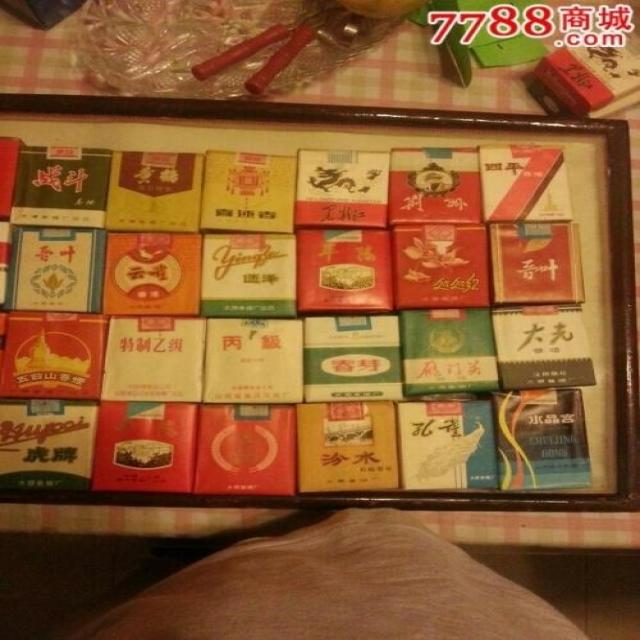box: (492, 387, 591, 490), (92, 400, 200, 492), (296, 401, 401, 494), (1, 310, 110, 399), (0, 397, 99, 492), (195, 403, 297, 495), (397, 399, 498, 491), (100, 315, 205, 402), (303, 313, 403, 403), (492, 305, 596, 391), (4, 227, 106, 313), (393, 224, 493, 311), (296, 228, 393, 317), (102, 231, 201, 318), (202, 318, 303, 403), (402, 308, 499, 395), (104, 150, 206, 231), (9, 146, 111, 227), (200, 149, 298, 233), (201, 233, 296, 318), (489, 224, 585, 305), (294, 149, 389, 228), (479, 145, 575, 223), (389, 147, 483, 225)
